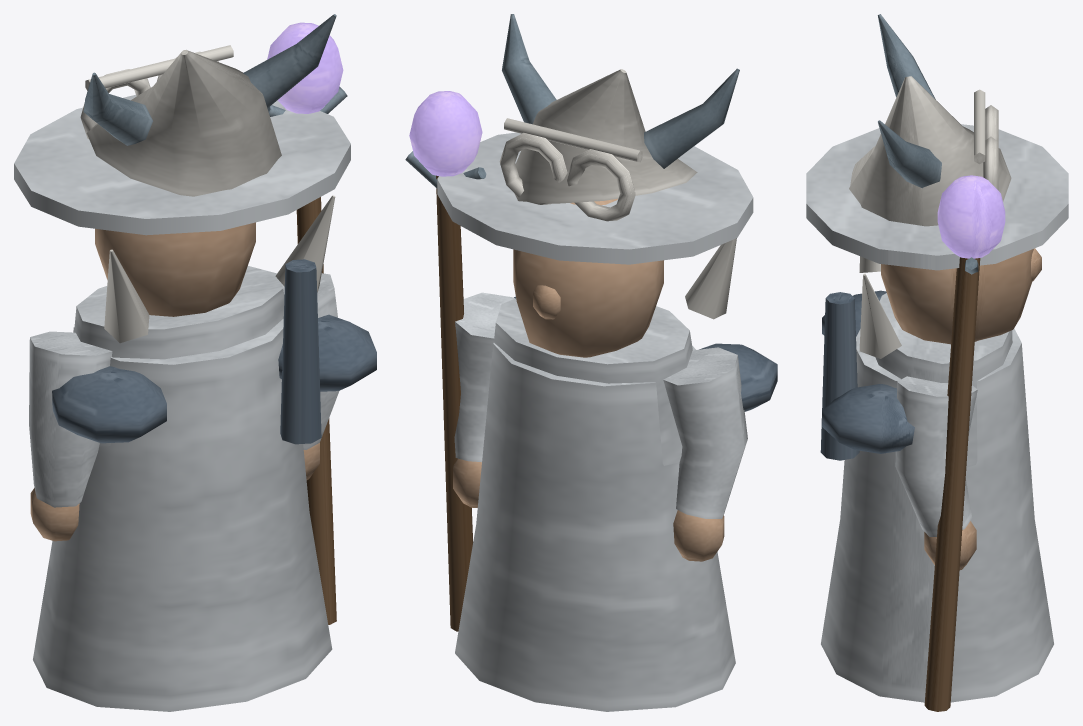
File: wizard.glb
3 views of the same model, side by side, from view 1: azimuth 30°, elevation 25°; view 2: azimuth 150°, elevation 25°; view 3: azimuth 270°, elevation 25° (orthographic). The views are drawn at different scales.
Parts seen in each view (by area): view 1: Body, FactionBrute, ArmL, FactionIndustrial, Tool, FactionArcane, ArmR; view 2: Body, Tool, ArmL, FactionBrute, ArmR, FactionIndustrial, FactionArcane; view 3: Body, Tool, FactionBrute, ArmR, FactionIndustrial, FactionArcane.
Boxes of the visible parts, x1,y1,x2,y2 form: Body: (14,50,350,711); FactionBrute: (52,14,376,443); ArmL: (29,331,112,541); FactionIndustrial: (80,45,321,444); Tool: (267,22,347,624); FactionArcane: (104,195,335,343); ArmR: (281,273,339,479); Body: (437,69,753,711); Tool: (405,91,486,631); ArmL: (663,347,747,561); FactionBrute: (502,14,777,411); ArmR: (453,292,514,507); FactionIndustrial: (499,118,642,221); FactionArcane: (685,238,736,319); Body: (806,76,1068,702); Tool: (924,175,1005,711); FactionBrute: (822,14,941,453); ArmR: (895,376,977,569); FactionIndustrial: (820,89,998,460); FactionArcane: (859,256,901,358).
Size of the model in its own units: 0.2223 by 0.4 by 0.1647.
7 materials, 7 textured.
